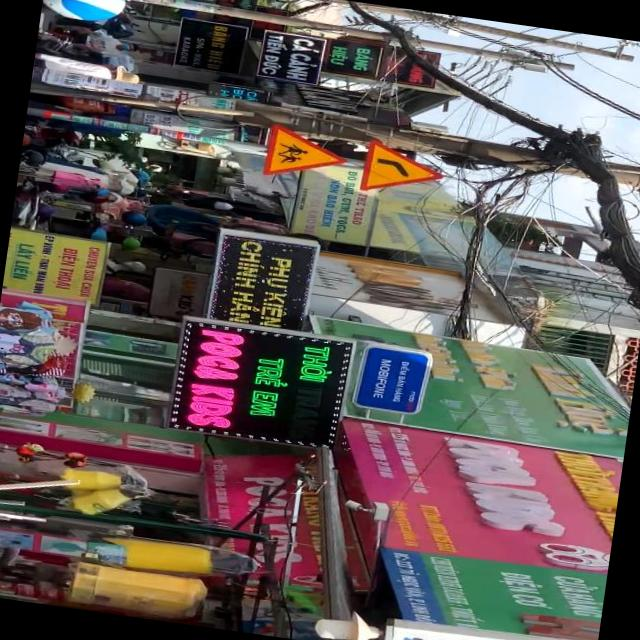W-201b: (359, 136, 448, 201)
W-225: (260, 122, 348, 186)
